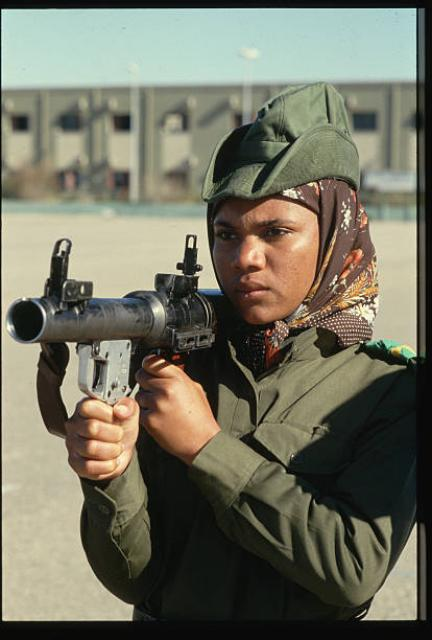other: (72, 100, 414, 618)
